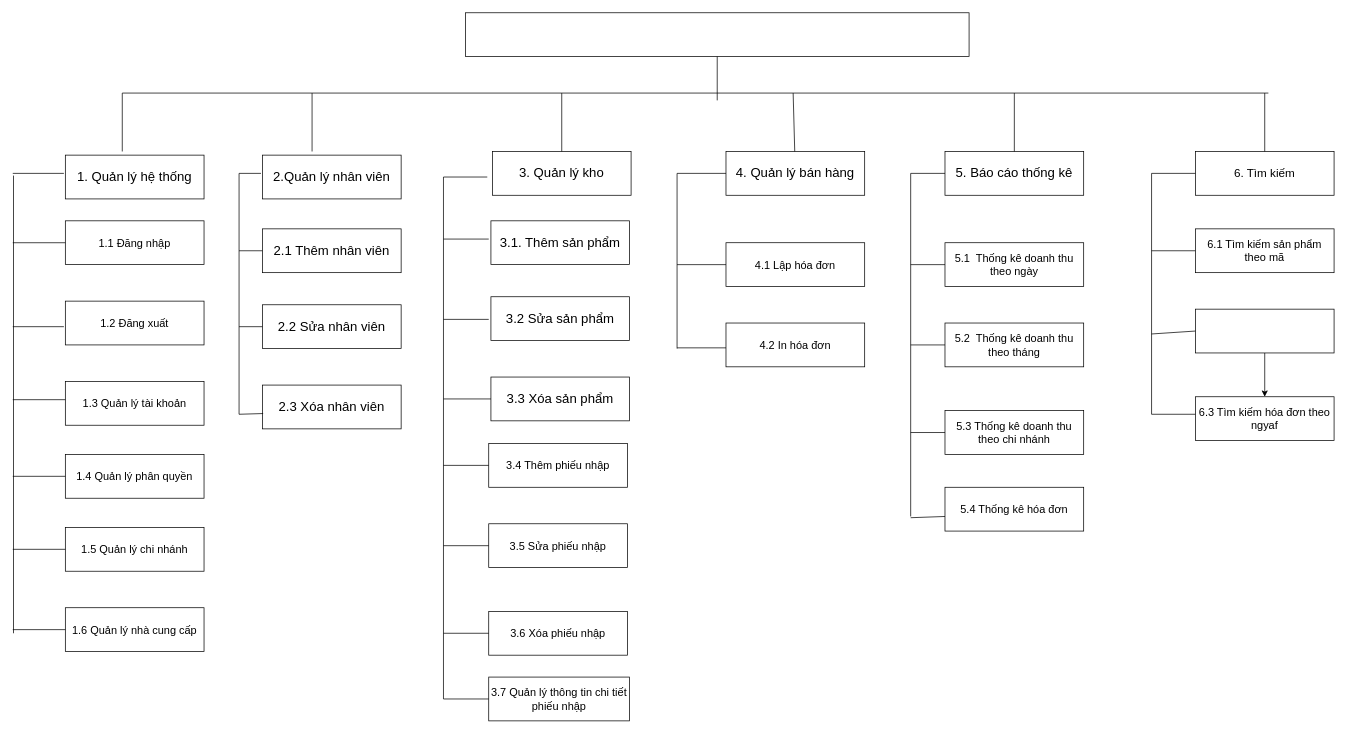
The diagram is 1347 pixels wide and 734 high, and some of its shapes have lost their labels. The shapes that lost their labels are listed below. From the top down, each one's centre as x and y in pixels, then its label:
the point at 717,34: Xây dựng website quản lý hệ thống bán lẻ
the point at 1264,330: 6.2 Tìm kiếm sản phẩm theo tên
